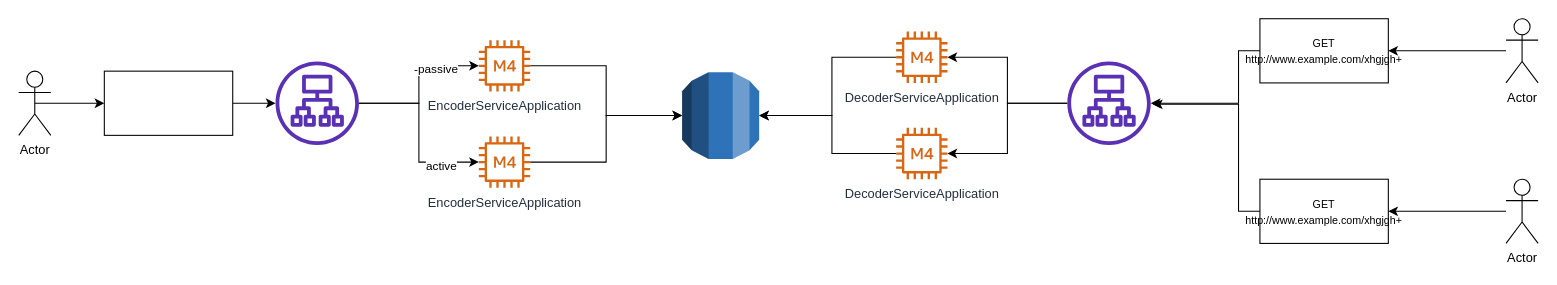
The diagram is 1557 pixels wide and 285 high, and some of its shapes have lost their labels. The centre of each missing label's shape, as x and y in pixels:
Application Load Balancer Setup as Active/Passive: (316,102)
Application Load Balancer Setup as Round Robin: (1108,102)
GET http://www.example.com/?shorten=http://some.url/etc/: (168,102)
MySQL: (720,115)
